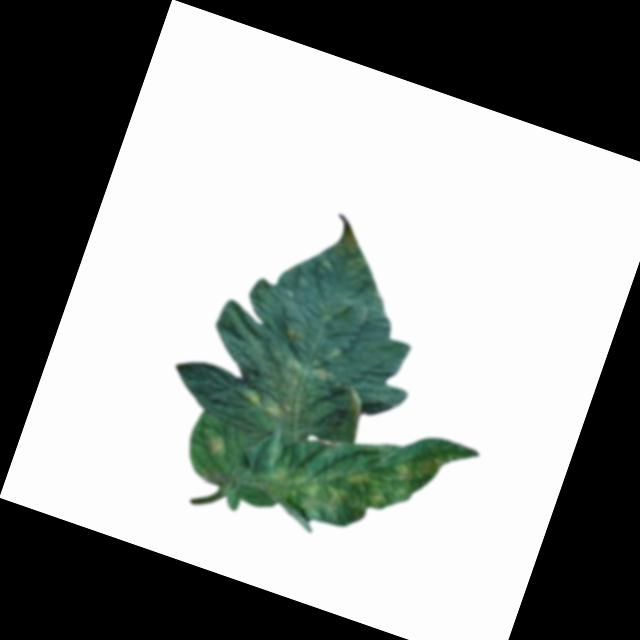Leaf_Mold: (228, 397, 446, 552), (234, 339, 348, 436), (200, 428, 232, 459)
